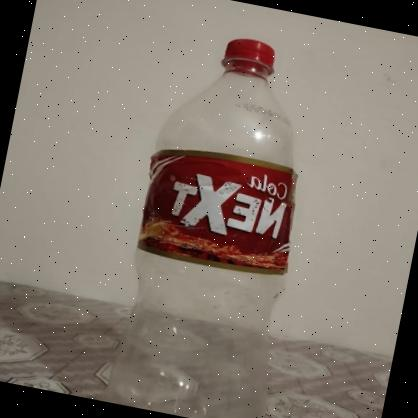bottle: (109, 28, 325, 418)
cap: (225, 36, 278, 70)
label: (135, 143, 304, 281)
